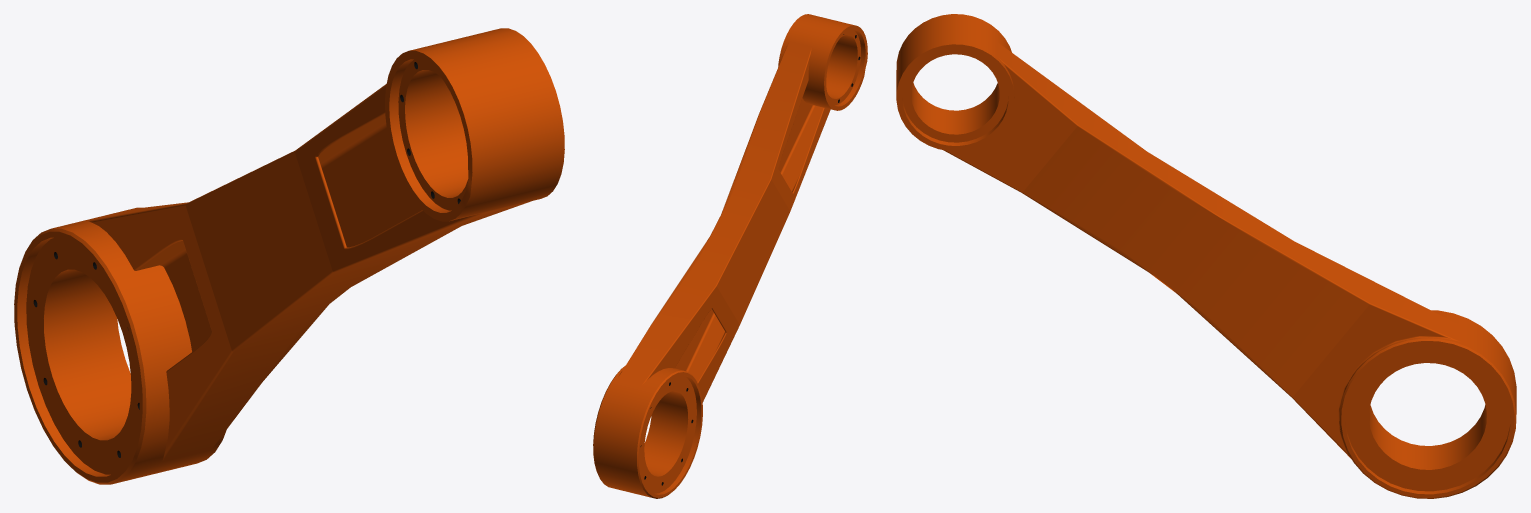
Rendered from arm_2.obj.
The picture shows the model from 3 angles, left to right: view 1: azimuth 30°, elevation 25°; view 2: azimuth 150°, elevation 25°; view 3: azimuth 270°, elevation 25°; orthographic projection. The views are drawn at different scales.
Visible parts, largest first — view 1: arm_2.001; view 2: arm_2.001; view 3: arm_2.001.
Boxes of the visible parts, x1,y1,x2,y2 form: arm_2.001: (14, 28, 564, 484); arm_2.001: (593, 14, 867, 498); arm_2.001: (896, 14, 1516, 498).
Size of the model in its own units: 292 by 2043 by 2519.
